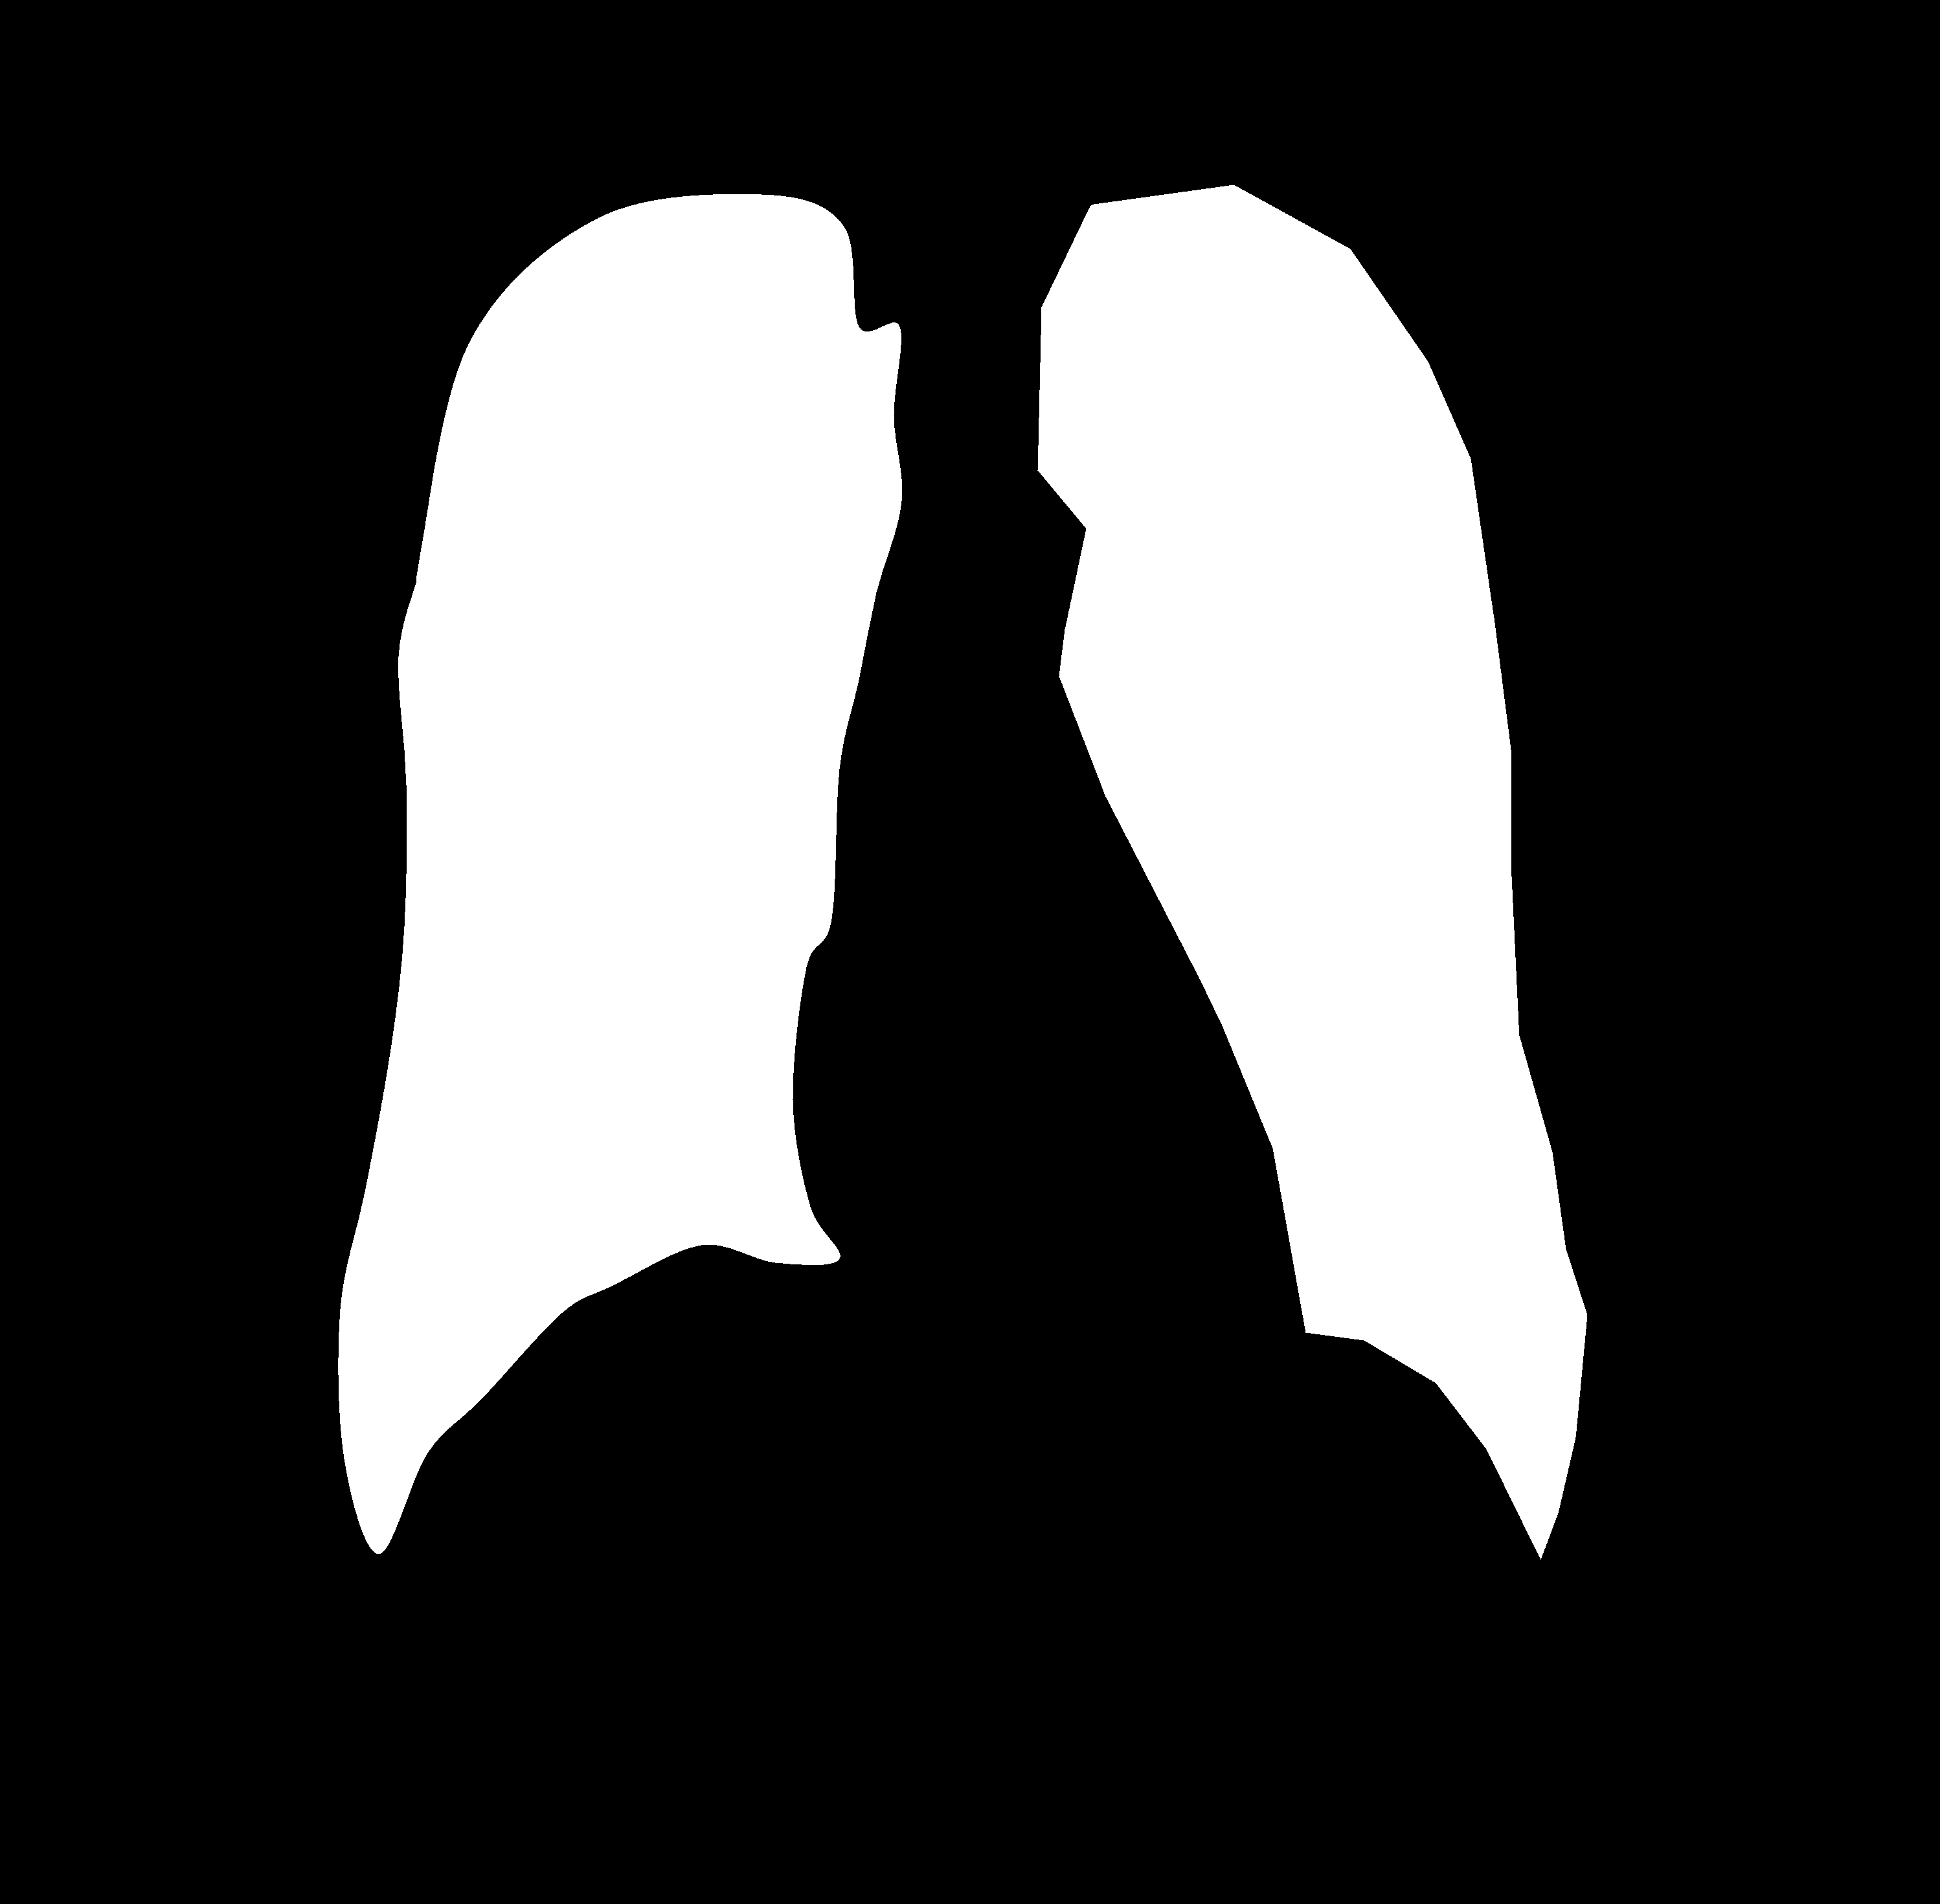heart: (783, 842, 1308, 1369)
left_lung: (342, 194, 902, 1557)
right_lung: (1038, 185, 1577, 1566)
